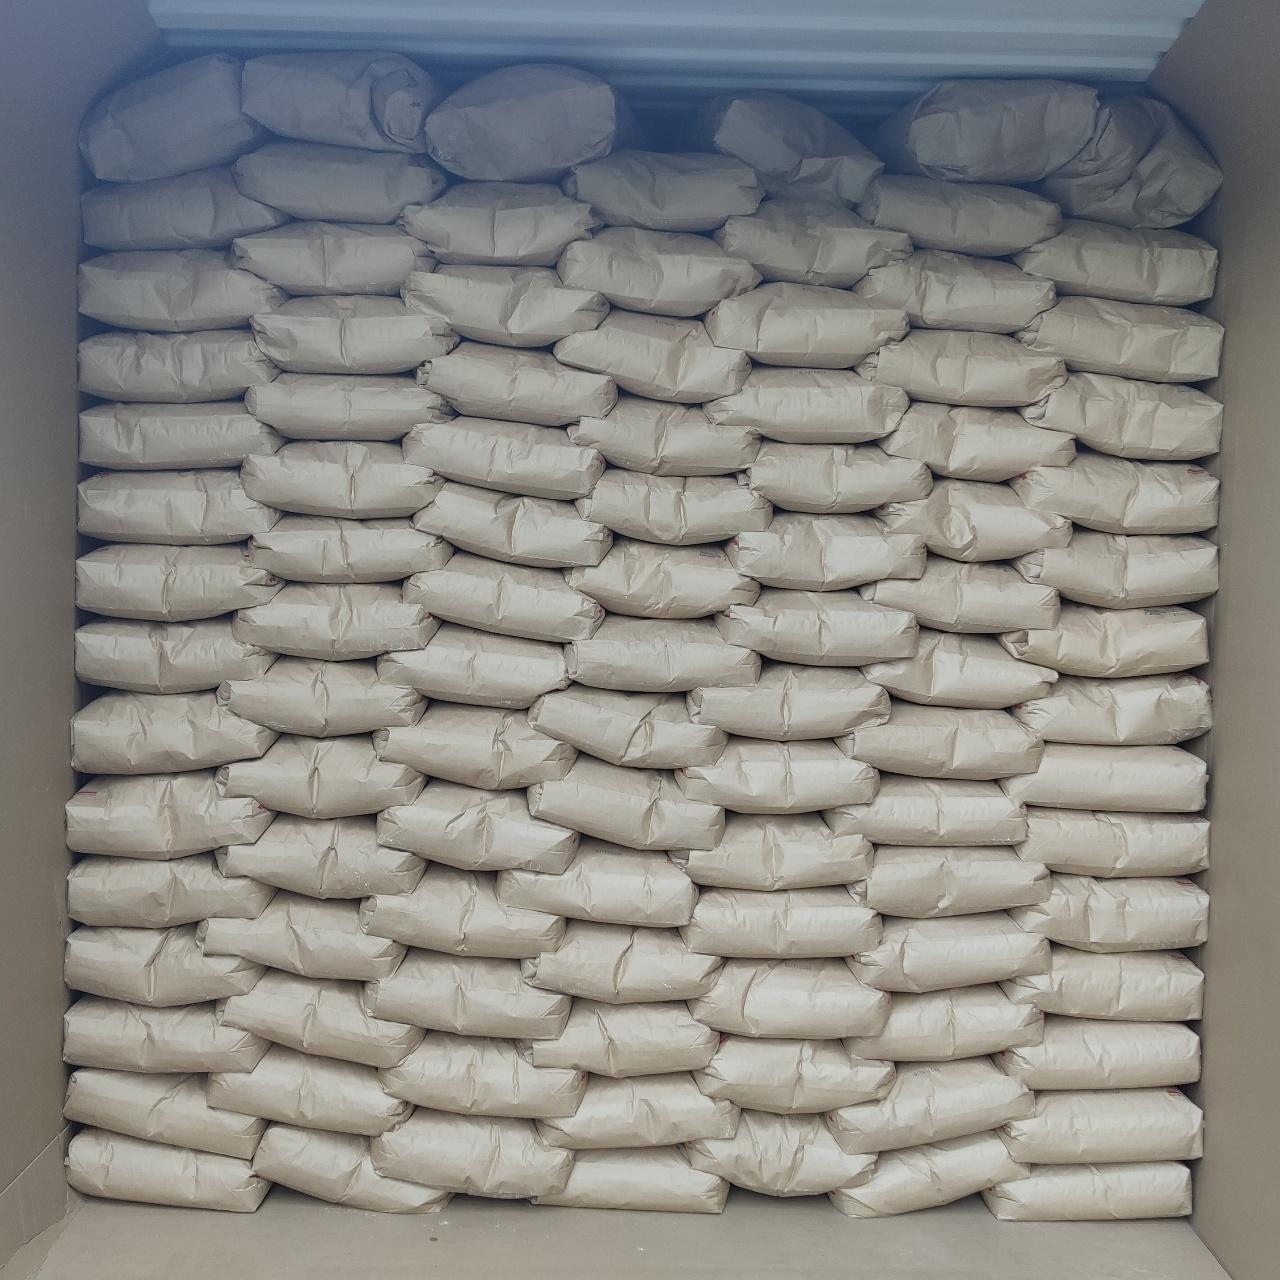sack: (1034, 91, 1220, 227), (425, 64, 628, 181), (874, 80, 1099, 184), (82, 56, 268, 181), (678, 94, 880, 204), (241, 54, 444, 150), (218, 971, 422, 1065), (362, 864, 564, 956), (826, 1058, 1030, 1150), (198, 892, 404, 980), (372, 1108, 572, 1198), (207, 1046, 411, 1133), (377, 779, 576, 870), (527, 756, 724, 846), (66, 1068, 263, 1158), (554, 309, 750, 400), (558, 229, 758, 316), (1020, 372, 1220, 459), (1017, 297, 1223, 382), (366, 949, 566, 1036), (66, 1128, 270, 1212), (374, 702, 574, 788), (1010, 450, 1218, 532), (68, 770, 270, 855), (234, 142, 448, 222), (501, 838, 694, 926), (254, 1124, 448, 1212), (404, 552, 602, 638), (382, 1032, 583, 1116), (706, 282, 908, 366), (714, 200, 910, 286), (216, 813, 422, 894), (1012, 220, 1214, 302), (414, 482, 610, 566), (72, 692, 275, 772), (82, 168, 286, 248), (856, 250, 1054, 332), (858, 173, 1058, 254), (418, 340, 614, 422), (832, 1132, 1028, 1214), (80, 250, 284, 328), (402, 264, 606, 342), (218, 736, 424, 813), (404, 418, 604, 498), (530, 685, 726, 765), (218, 658, 424, 734), (66, 926, 263, 1006), (402, 184, 598, 264), (520, 998, 719, 1076), (564, 152, 764, 230), (377, 624, 566, 706), (686, 1112, 874, 1194), (858, 331, 1064, 406), (850, 912, 1046, 990), (1014, 530, 1216, 606), (692, 960, 886, 1039), (838, 700, 1039, 776), (1000, 602, 1206, 676), (79, 544, 278, 620), (568, 394, 758, 474), (254, 297, 456, 372), (728, 512, 926, 588), (688, 662, 886, 738), (234, 584, 438, 658), (876, 481, 1070, 558), (878, 402, 1074, 478), (846, 983, 1042, 1060), (564, 538, 758, 614), (678, 738, 878, 812), (66, 996, 266, 1070), (1002, 946, 1201, 1020), (232, 222, 434, 294), (860, 556, 1058, 629), (76, 618, 274, 692), (696, 1036, 894, 1110), (1012, 874, 1206, 949), (524, 922, 719, 998), (1000, 1088, 1200, 1160), (241, 442, 438, 516), (716, 590, 915, 662), (864, 629, 1054, 706), (70, 855, 272, 926), (672, 813, 870, 886), (576, 468, 770, 542), (540, 1074, 736, 1146), (566, 617, 758, 690), (80, 470, 278, 542), (706, 368, 906, 438), (996, 1016, 1198, 1085), (824, 774, 1022, 844), (1002, 744, 1206, 812), (1012, 674, 1212, 742), (850, 846, 1046, 915), (80, 331, 275, 399), (682, 888, 878, 956), (82, 402, 282, 468), (246, 374, 450, 438), (250, 516, 452, 580), (1016, 808, 1206, 876), (740, 442, 930, 510), (535, 1146, 726, 1212), (983, 1162, 1190, 1218)
